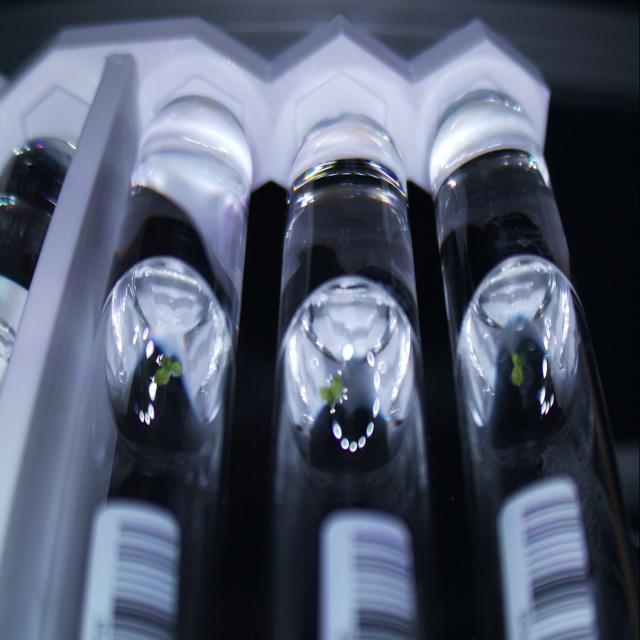Lemna-Gibba: (154, 357, 182, 385), (320, 375, 344, 407), (511, 352, 524, 385)
